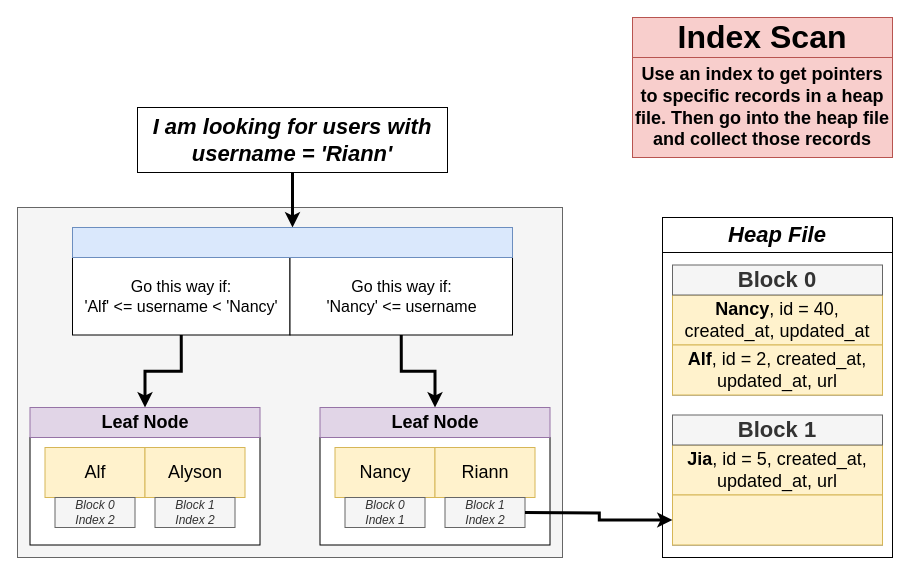
Some shapes in this 910 by 575 pixel diagram are drawn without their labels. The shapes that lost their labels are listed below. From the top down, each one's centre as x and y in pixels, then its label:
At [292,242]: "Root Node".
At [777,519]: "Riann , id = 3, created_at, updated_at, url".
